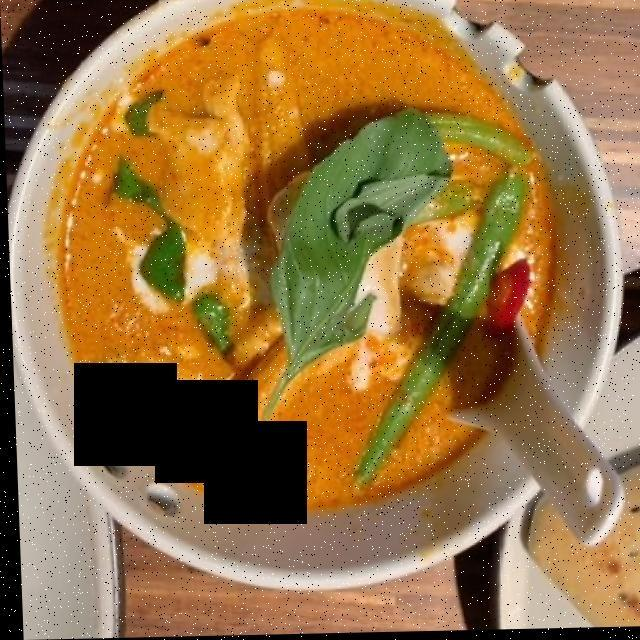chicken-curry: (62, 13, 554, 503)
mixed-vegetables: (122, 49, 524, 489)
